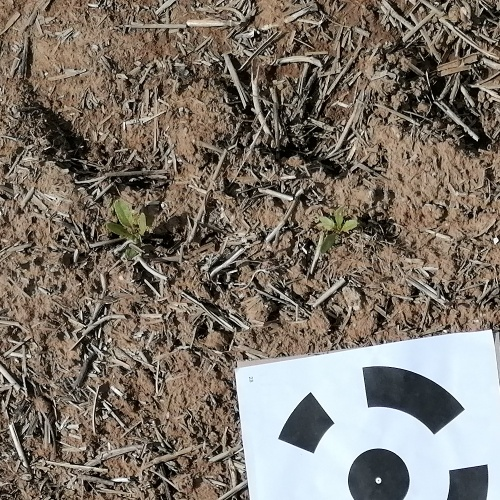beet: (106, 199, 147, 262), (321, 206, 355, 255)
